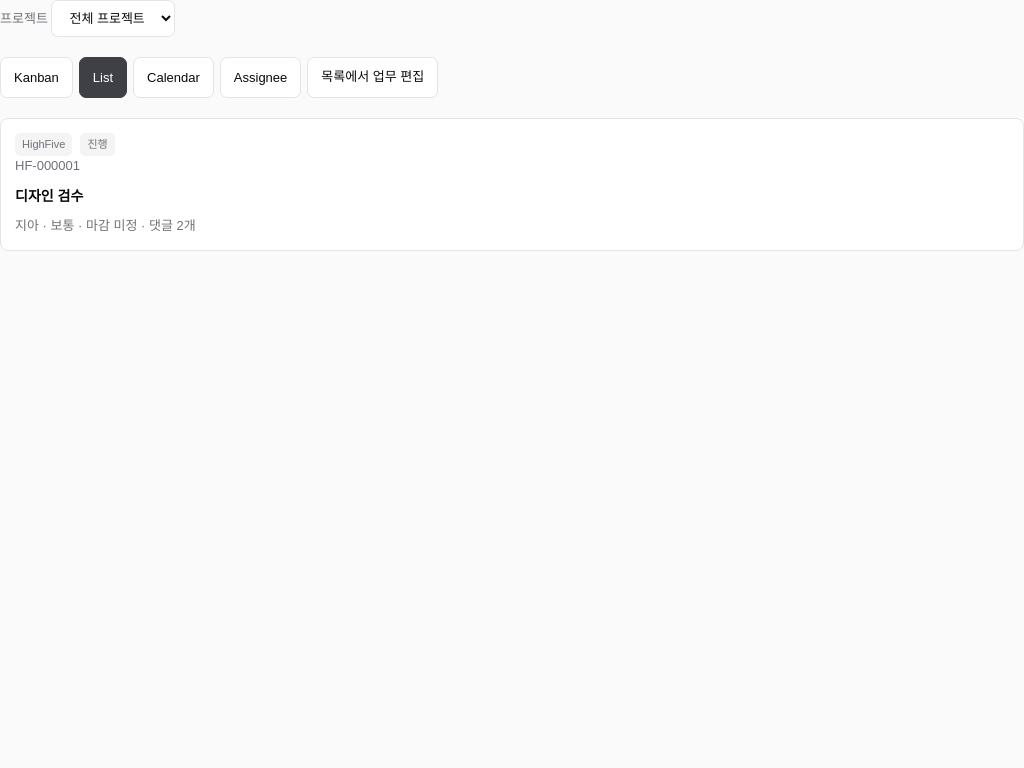
주요 업무 UI › 잘못된 마감일이 있어도 목록과 캘린더 화면이 깨지지 않는다
The width and height of the screenshot is (1024, 768).
Expected: the text "지아 · 보통 · 마감 미정 · 댓글 2개" is shown, [15, 218, 196, 233]
Click the tab "Calendar" at coordinates (174, 77), box [133, 57, 214, 98]
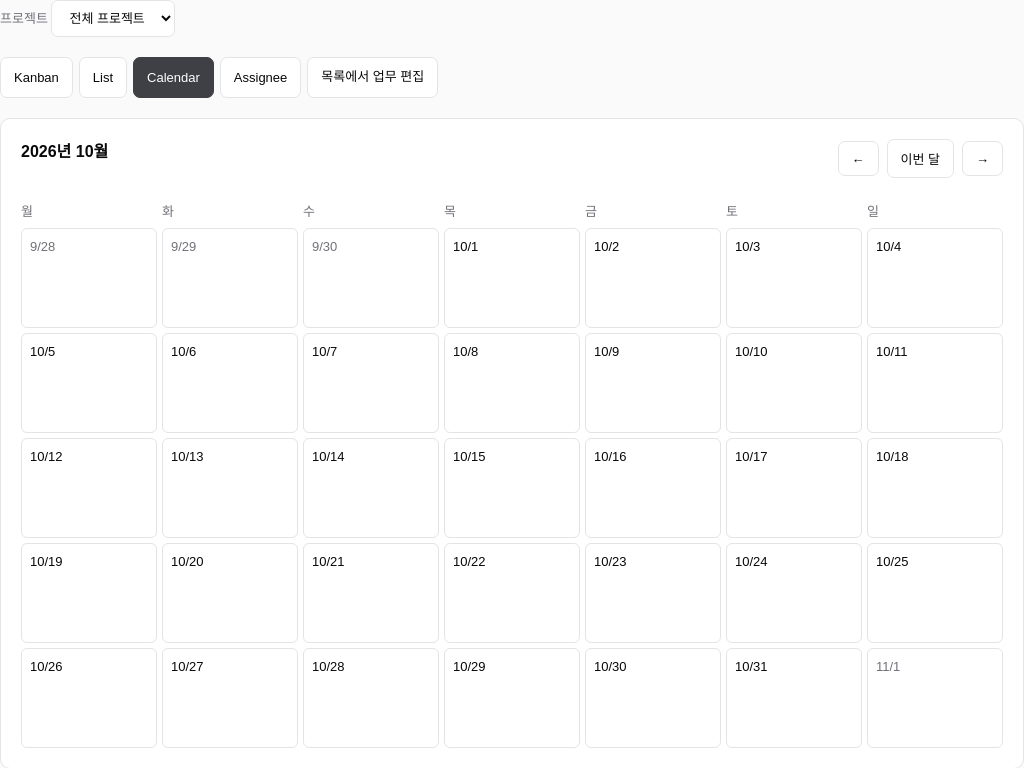
Result: the element named "업무 마감 캘린더" is shown
